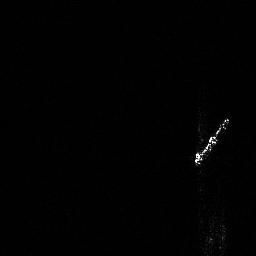ship: (188, 112, 233, 171)
